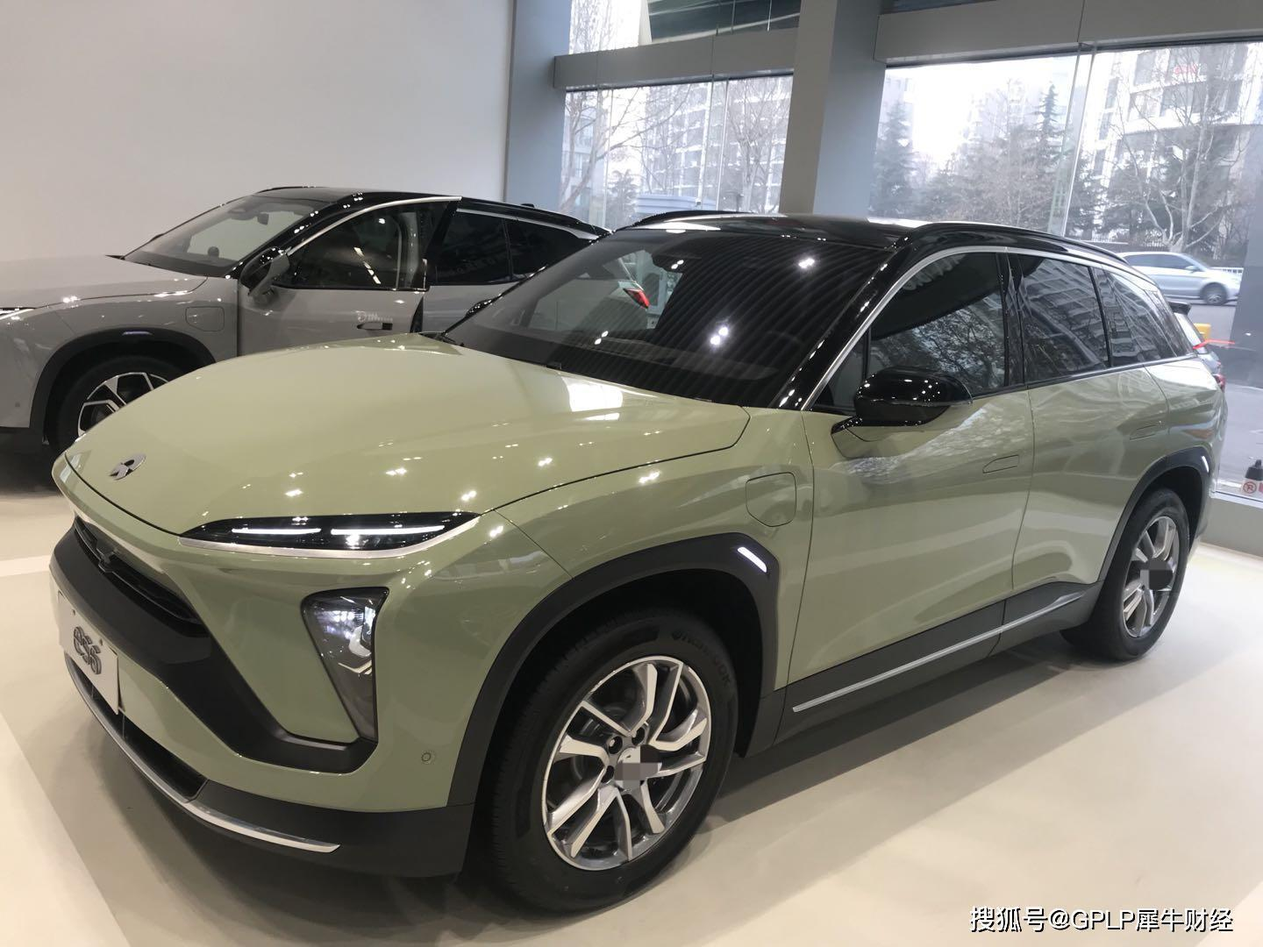NIO: (108, 454, 146, 482)
